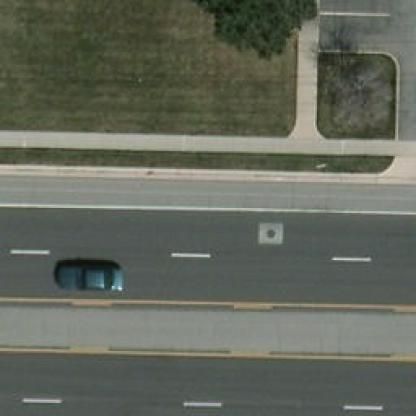car: (52, 262, 124, 290)
